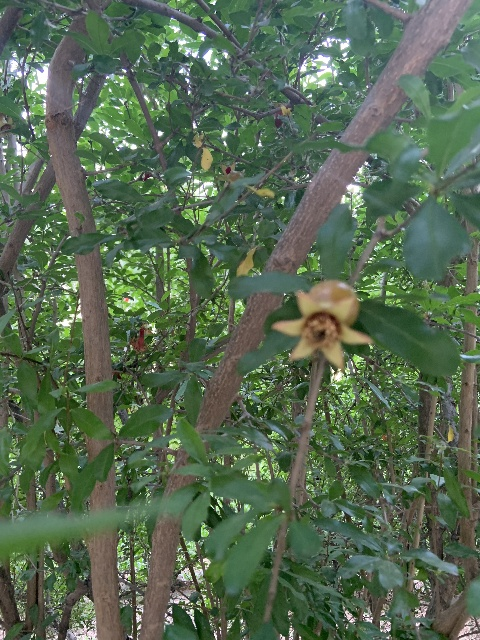early-fruit: (270, 279, 374, 372)
